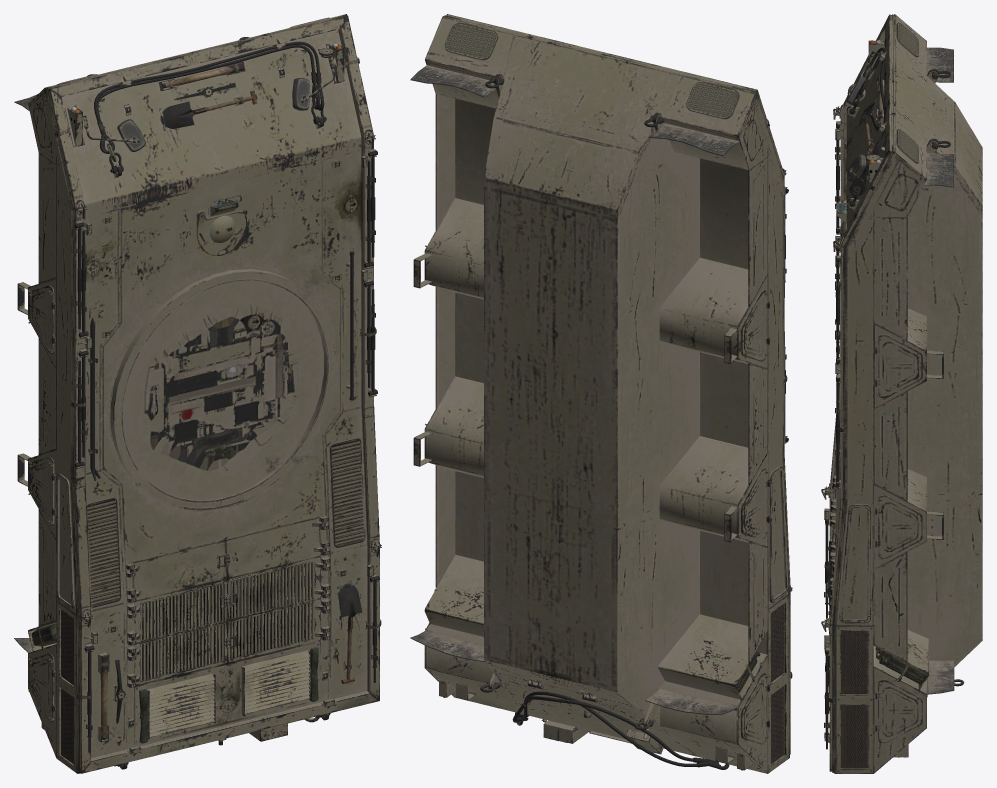
The model's file is Hull.glb.
The picture shows the model from 3 angles, left to right: view 1: azimuth 30°, elevation 25°; view 2: azimuth 150°, elevation 25°; view 3: azimuth 270°, elevation 25°; orthographic projection. The views are drawn at different scales.
Parts seen in each view (by area): view 1: set_0_group_0; view 2: set_0_group_0; view 3: set_0_group_0.
Boxes of the visible parts, x1,y1,x2,y2 form: set_0_group_0: [14, 14, 381, 773]; set_0_group_0: [410, 14, 792, 773]; set_0_group_0: [821, 14, 982, 773].
Size of the model in its own units: 3.07 by 6.49 by 1.48.
Materials: 1 (1 with a texture image).
